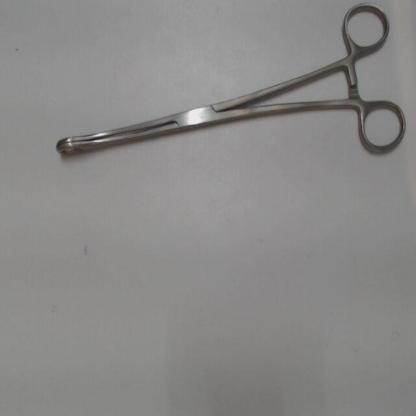Sponge Forceps: (46, 0, 410, 166)
